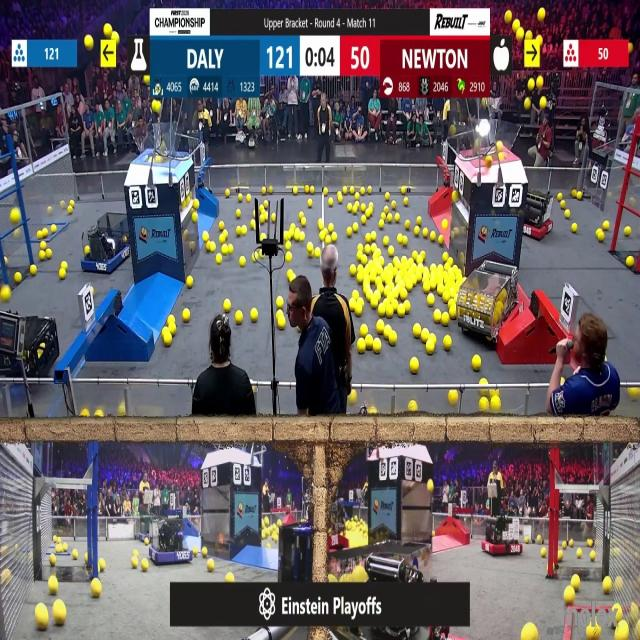ball_airborne: (10, 209, 20, 224), (86, 35, 95, 49), (524, 98, 532, 112), (535, 75, 543, 88), (152, 101, 160, 114), (538, 7, 545, 20), (104, 25, 111, 38), (517, 30, 525, 41), (504, 10, 511, 22), (110, 32, 118, 42), (540, 97, 546, 110), (528, 78, 535, 89), (533, 56, 539, 68), (514, 21, 520, 32), (428, 481, 433, 493), (451, 126, 456, 138), (485, 158, 491, 168), (525, 31, 532, 39), (536, 36, 541, 44), (497, 142, 501, 151), (155, 155, 160, 162), (499, 152, 503, 160)
ball_ground: (35, 606, 48, 632), (54, 604, 67, 626), (564, 588, 574, 606), (92, 580, 102, 598), (449, 390, 459, 406), (48, 578, 57, 595), (480, 396, 490, 411), (411, 357, 420, 373), (471, 355, 480, 370), (1, 286, 10, 301), (603, 578, 611, 594), (630, 387, 639, 400), (357, 340, 365, 354), (348, 390, 356, 404), (52, 577, 59, 592), (374, 341, 382, 354), (414, 324, 422, 337), (426, 342, 434, 355), (444, 312, 451, 326), (359, 324, 367, 336), (278, 317, 286, 329), (250, 310, 258, 322), (207, 560, 215, 572), (389, 334, 397, 346), (410, 399, 418, 411), (378, 306, 386, 318), (182, 309, 189, 322), (223, 300, 230, 313), (225, 572, 233, 583), (386, 307, 394, 318), (186, 276, 193, 288), (433, 311, 440, 323), (141, 560, 148, 572), (237, 312, 244, 324), (597, 231, 604, 243), (627, 256, 635, 266), (164, 333, 170, 346), (13, 273, 20, 284), (287, 271, 294, 282), (30, 266, 37, 277), (118, 406, 124, 418), (428, 293, 434, 305), (378, 320, 384, 332), (49, 554, 55, 566), (44, 249, 51, 259), (285, 252, 292, 261), (388, 247, 395, 256), (418, 253, 425, 262), (61, 270, 67, 280), (240, 256, 246, 266), (590, 552, 596, 562), (571, 222, 577, 232), (72, 550, 78, 560), (319, 232, 325, 242), (132, 558, 138, 568), (558, 552, 564, 562), (293, 232, 299, 242), (383, 286, 389, 296), (626, 225, 632, 235), (192, 200, 198, 210), (81, 410, 88, 418), (359, 254, 366, 262), (481, 378, 488, 386), (96, 411, 104, 418), (271, 213, 277, 222), (40, 241, 46, 250), (430, 233, 436, 242), (171, 325, 177, 334), (444, 252, 450, 261), (216, 253, 221, 263), (204, 232, 209, 242), (242, 225, 247, 235), (360, 215, 366, 223), (422, 230, 428, 238), (390, 202, 396, 210), (352, 290, 358, 298), (50, 224, 56, 232), (403, 220, 409, 228), (316, 248, 321, 257), (417, 216, 422, 225), (604, 220, 609, 229), (203, 546, 208, 555), (331, 235, 336, 244), (388, 213, 393, 222), (83, 554, 88, 563), (309, 243, 314, 252), (365, 210, 371, 217), (400, 255, 406, 262), (560, 201, 565, 209), (353, 223, 358, 231), (192, 212, 196, 222), (576, 549, 580, 559), (384, 236, 388, 246), (385, 191, 390, 199), (224, 188, 229, 196), (219, 221, 224, 229), (560, 378, 565, 386), (327, 223, 332, 231), (370, 234, 375, 242), (68, 207, 73, 215), (395, 213, 399, 223), (251, 220, 256, 228), (348, 228, 352, 238), (353, 205, 358, 213), (571, 189, 576, 197), (237, 209, 241, 218), (576, 190, 580, 199), (360, 205, 365, 212), (536, 535, 541, 542), (449, 257, 454, 264), (380, 220, 384, 228), (403, 198, 407, 206), (308, 200, 312, 208), (295, 230, 299, 238), (566, 210, 570, 217), (328, 200, 332, 207), (356, 192, 360, 199), (265, 533, 269, 540), (589, 539, 593, 546)
goal: (469, 121, 520, 160), (130, 129, 188, 160)
robot_blue: (83, 215, 131, 275), (150, 515, 193, 565)
robot_red: (458, 259, 527, 345), (522, 190, 553, 240), (482, 520, 522, 556)
